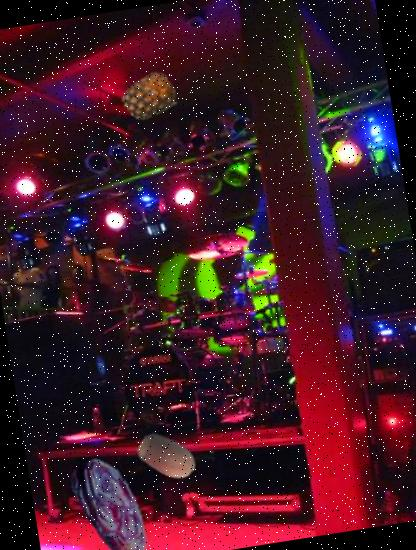Dates: (50, 447, 175, 550)
Hazelnut: (134, 422, 204, 492)
Pineapple: (118, 66, 180, 128)
